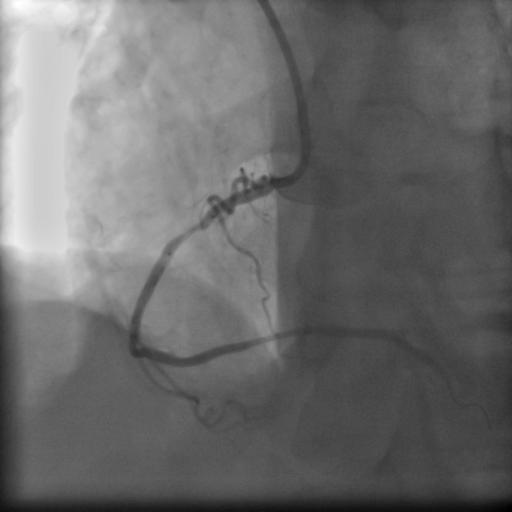Stenosis: (176, 219, 209, 238)
